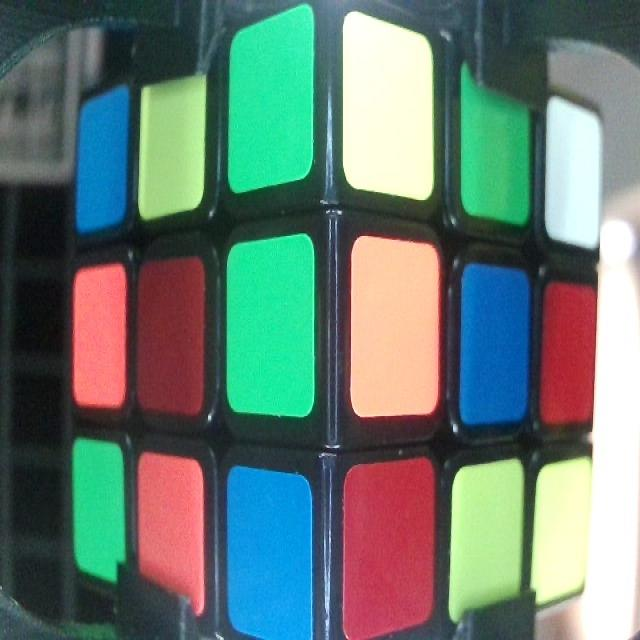b: (225, 470, 313, 640), (460, 266, 531, 421), (77, 101, 121, 230)
g: (228, 246, 314, 416), (232, 28, 312, 183), (461, 60, 532, 219), (73, 440, 125, 581)
o: (352, 240, 440, 418), (140, 456, 202, 606), (74, 269, 124, 404)
r: (348, 465, 433, 629), (138, 259, 202, 417), (544, 282, 592, 410)
w: (550, 102, 598, 238)
y: (345, 13, 433, 190), (451, 468, 522, 612), (140, 71, 208, 217), (533, 469, 589, 599)
